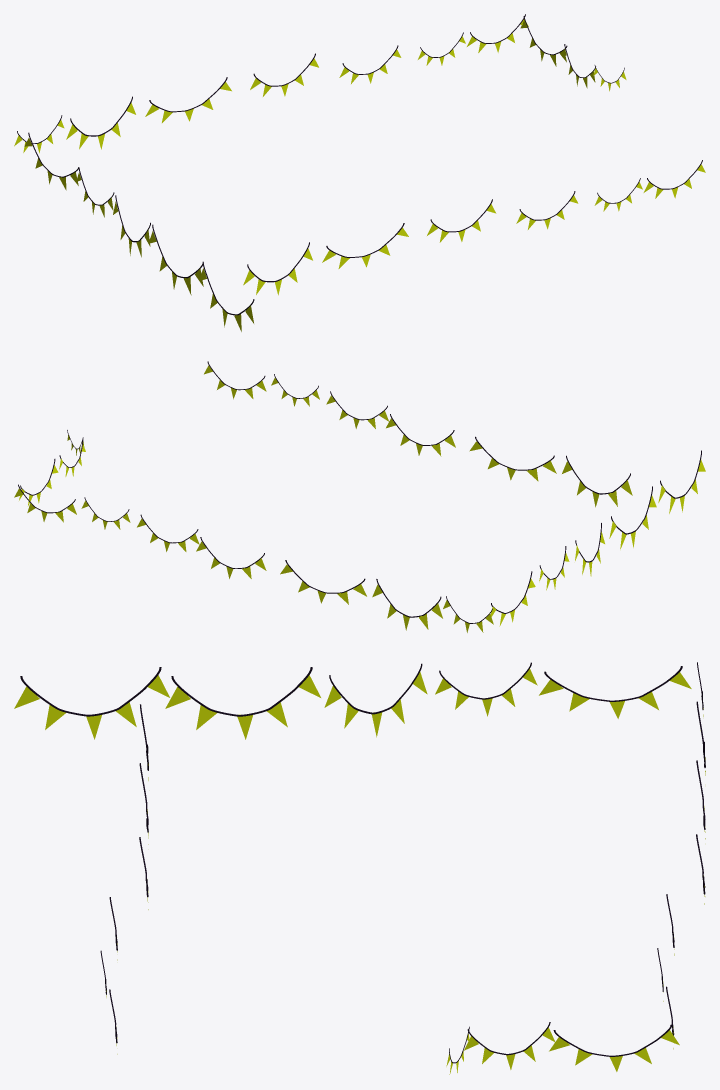
Rendered from Kitchen flags.glb.
The picture shows the model from 3 angles, top to bottom: view 1: azimuth 30°, elevation 25°; view 2: azimuth 150°, elevation 25°; view 3: azimuth 270°, elevation 25°; orthographic projection. The views are drawn at different scales.
Visible parts, largest first — view 1: no part large enough to name; view 2: BezierCurve.001, BezierCurve.002, BezierCurve.016, BezierCurve.017; view 3: BezierCurve.013, BezierCurve.014, BezierCurve.010, BezierCurve.012, BezierCurve.007, BezierCurve.011.
Boxes of the visible parts, x1,y1,x2,y2 form: BezierCurve.001: (280, 560, 366, 604); BezierCurve.002: (372, 579, 442, 630); BezierCurve.016: (469, 436, 556, 481); BezierCurve.017: (562, 455, 632, 507); BezierCurve.013: (165, 667, 320, 739); BezierCurve.014: (14, 667, 169, 739); BezierCurve.010: (539, 666, 691, 718); BezierCurve.012: (324, 663, 427, 737); BezierCurve.007: (549, 1024, 679, 1071); BezierCurve.011: (435, 662, 537, 716).
Bounding box in the file's own units: 16.17 × 1.57 × 12.32.
